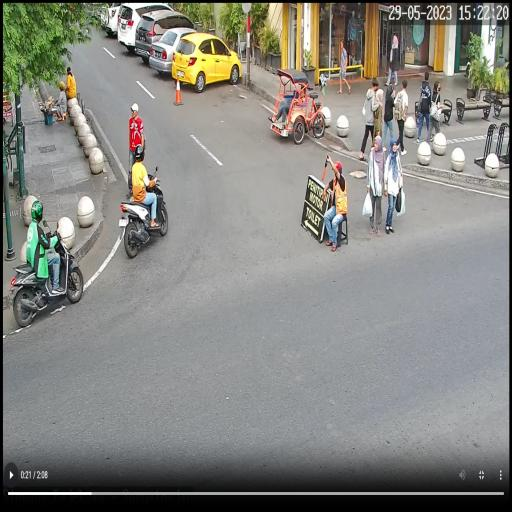mobil: (173, 32, 242, 92), (118, 0, 176, 52), (136, 13, 197, 62), (150, 25, 198, 75)
motor: (12, 226, 82, 324), (118, 172, 168, 258)
